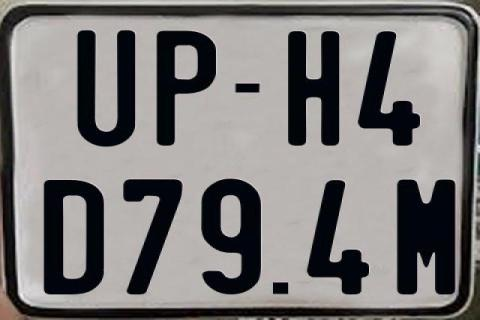0: (356, 31, 423, 149), (201, 177, 267, 293), (123, 179, 187, 295), (307, 178, 371, 294)
D: (43, 179, 110, 299)
H: (288, 30, 344, 148)
M: (397, 178, 461, 296)
P: (156, 29, 217, 144)
U: (76, 30, 140, 148)
